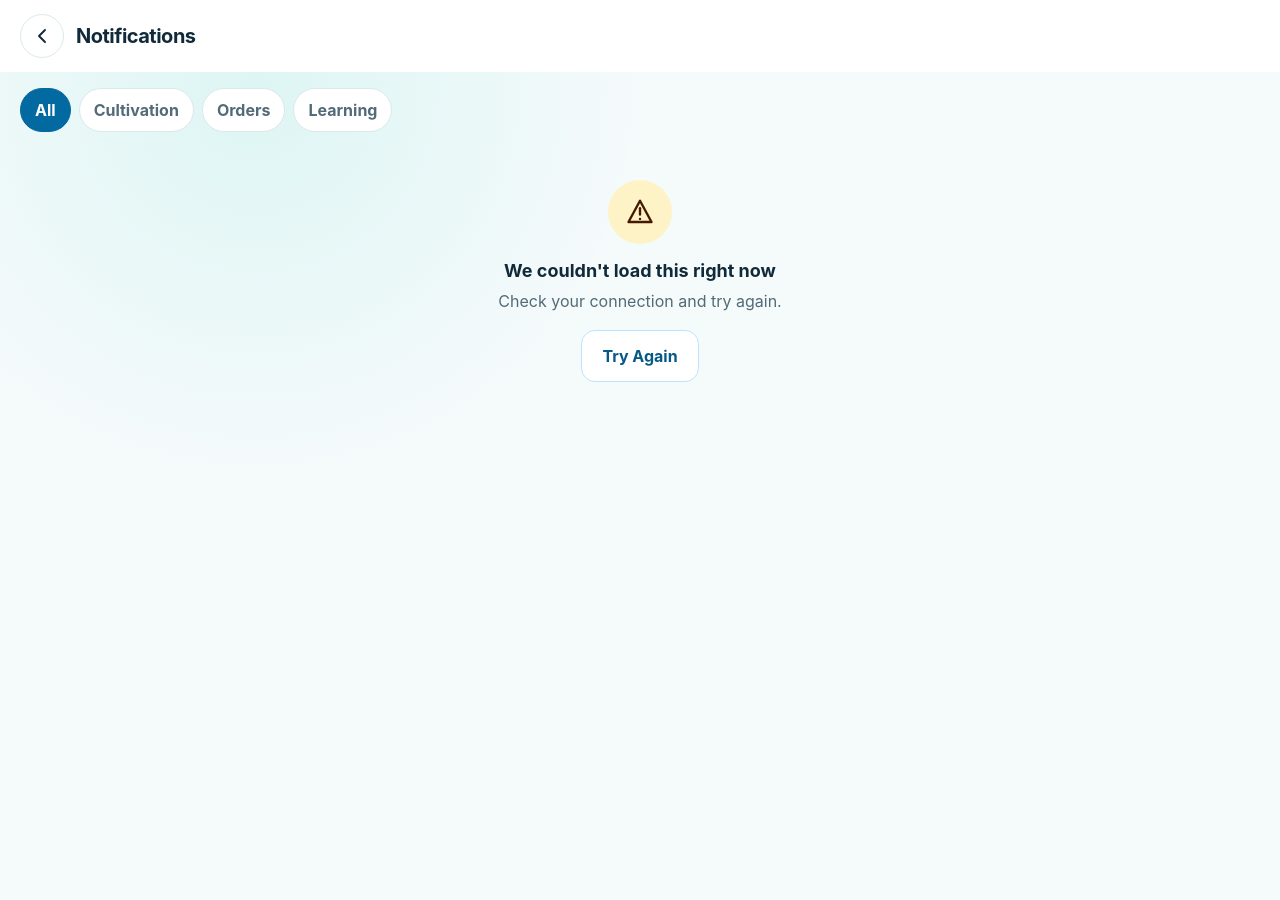
NotificationsView › offers a retry when the list fails to load
Click the button "Try Again" at (640, 356), box [581,330,699,382]
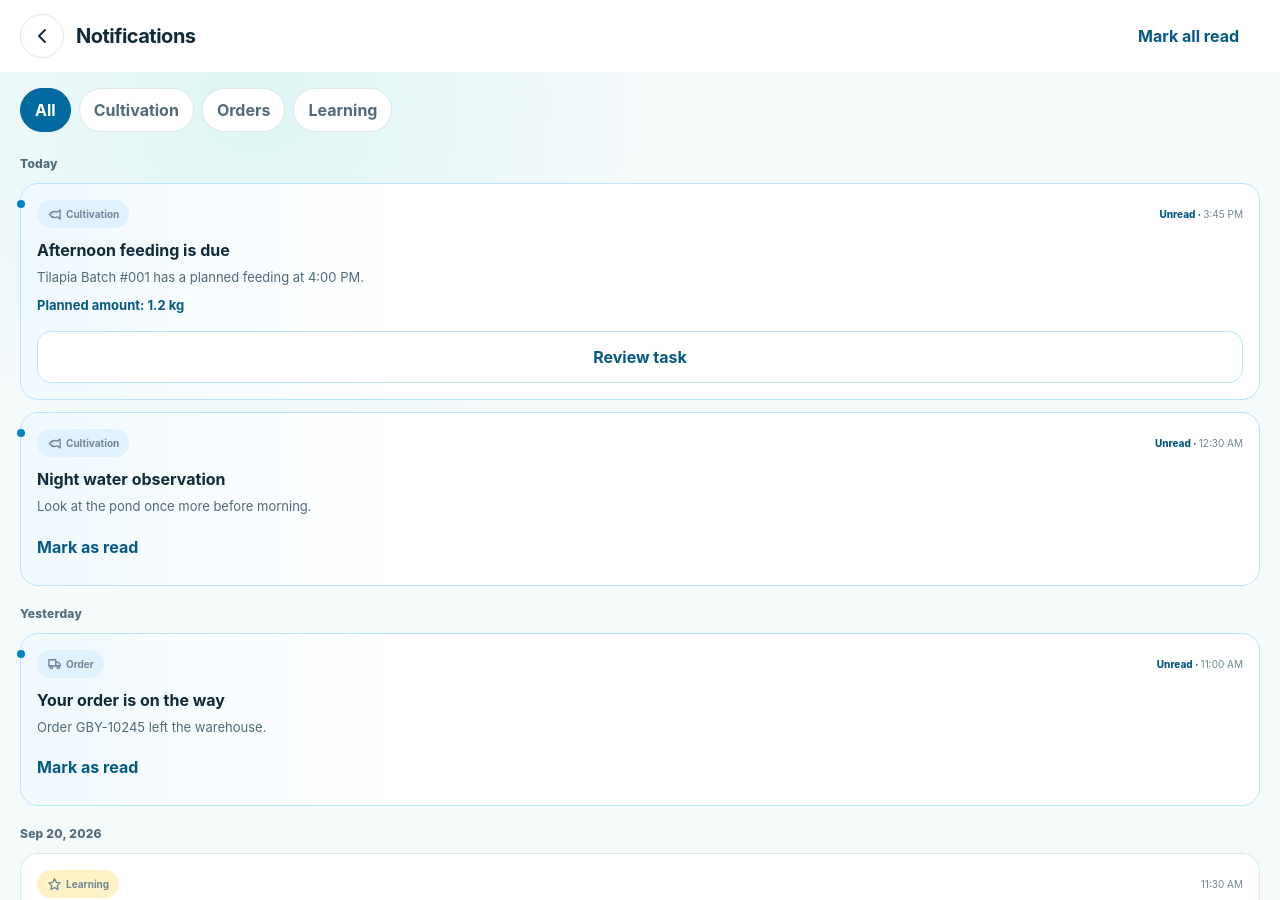
Result: the text "Afternoon feeding is due" is shown at [37,240,230,260]
